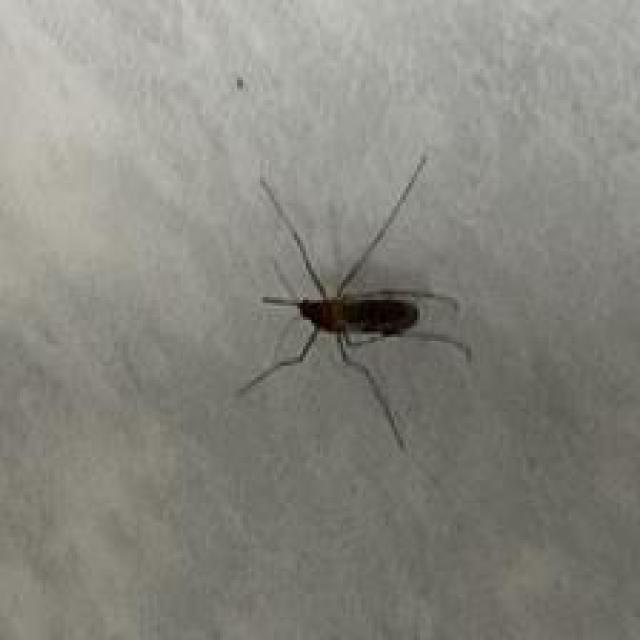Culex: (236, 152, 473, 454)
